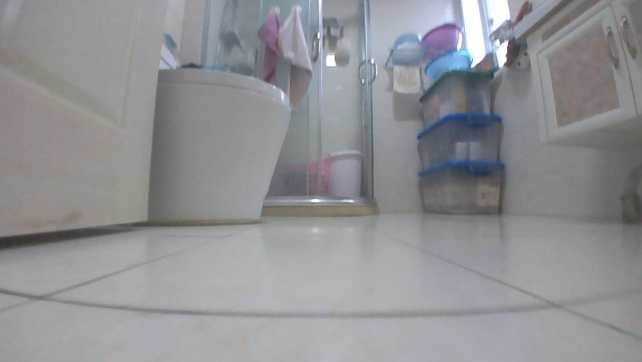toilet: (144, 65, 294, 225)
